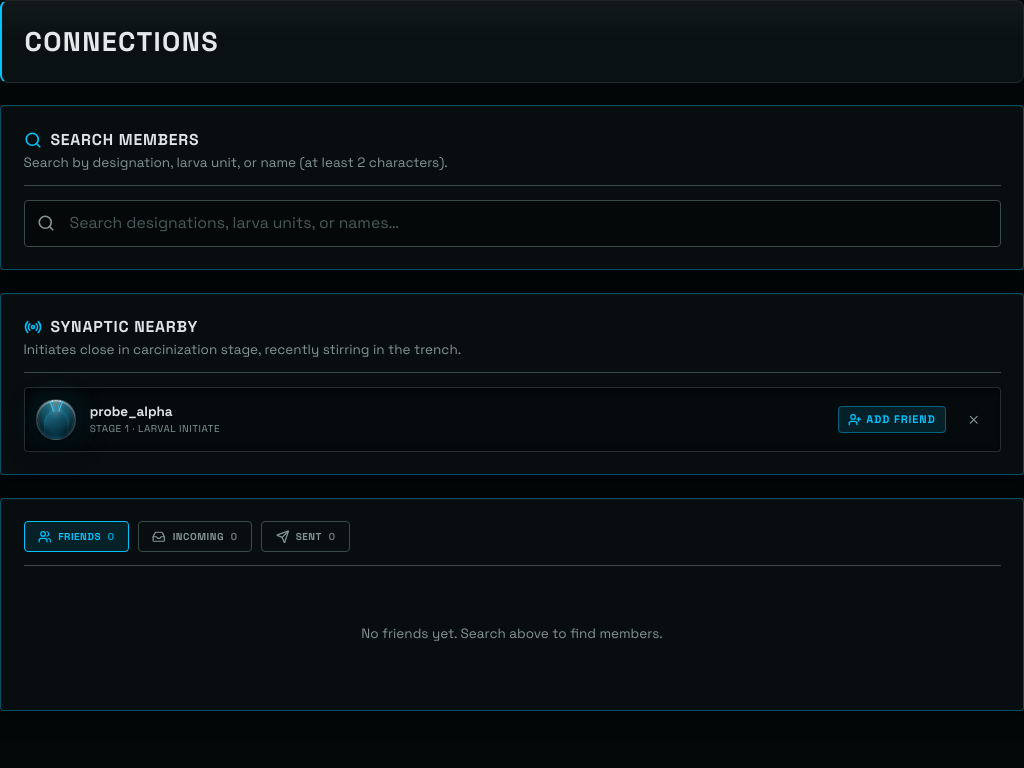
Scenario: ConnectionsPage › hides a nearby card when dismissed and persists the hide
Expected: the link "probe_alpha" is shown, [90,403,173,420]
Click the button named "Hide this suggestion": (974, 420) [959,405,988,434]
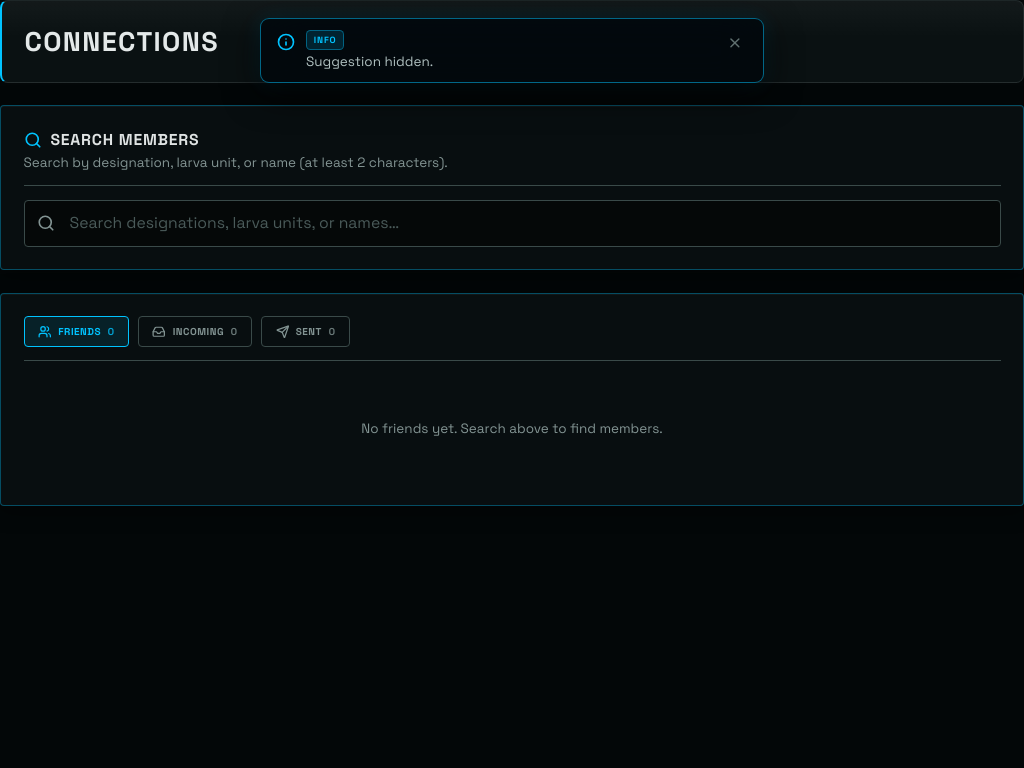
Expected: the link "probe_alpha" is gone
Expected: the heading "Synaptic nearby" is gone
